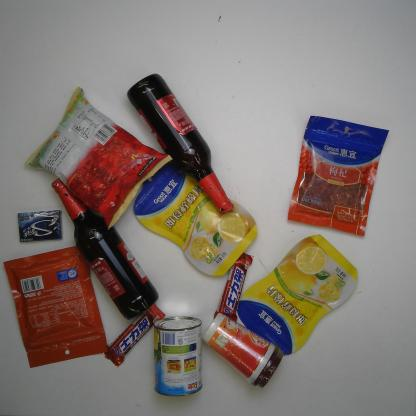Alcohol: (50, 176, 160, 320), (125, 72, 234, 214)
Canned Food: (153, 316, 203, 398)
Chocolate: (102, 304, 166, 368), (212, 250, 255, 322)
Dried Fruit: (237, 234, 358, 356), (134, 160, 258, 278), (3, 246, 109, 368), (287, 115, 390, 237)
Gum: (18, 209, 63, 243)
Instant Drink: (202, 312, 284, 389)
Puffed Food: (22, 85, 176, 232)
